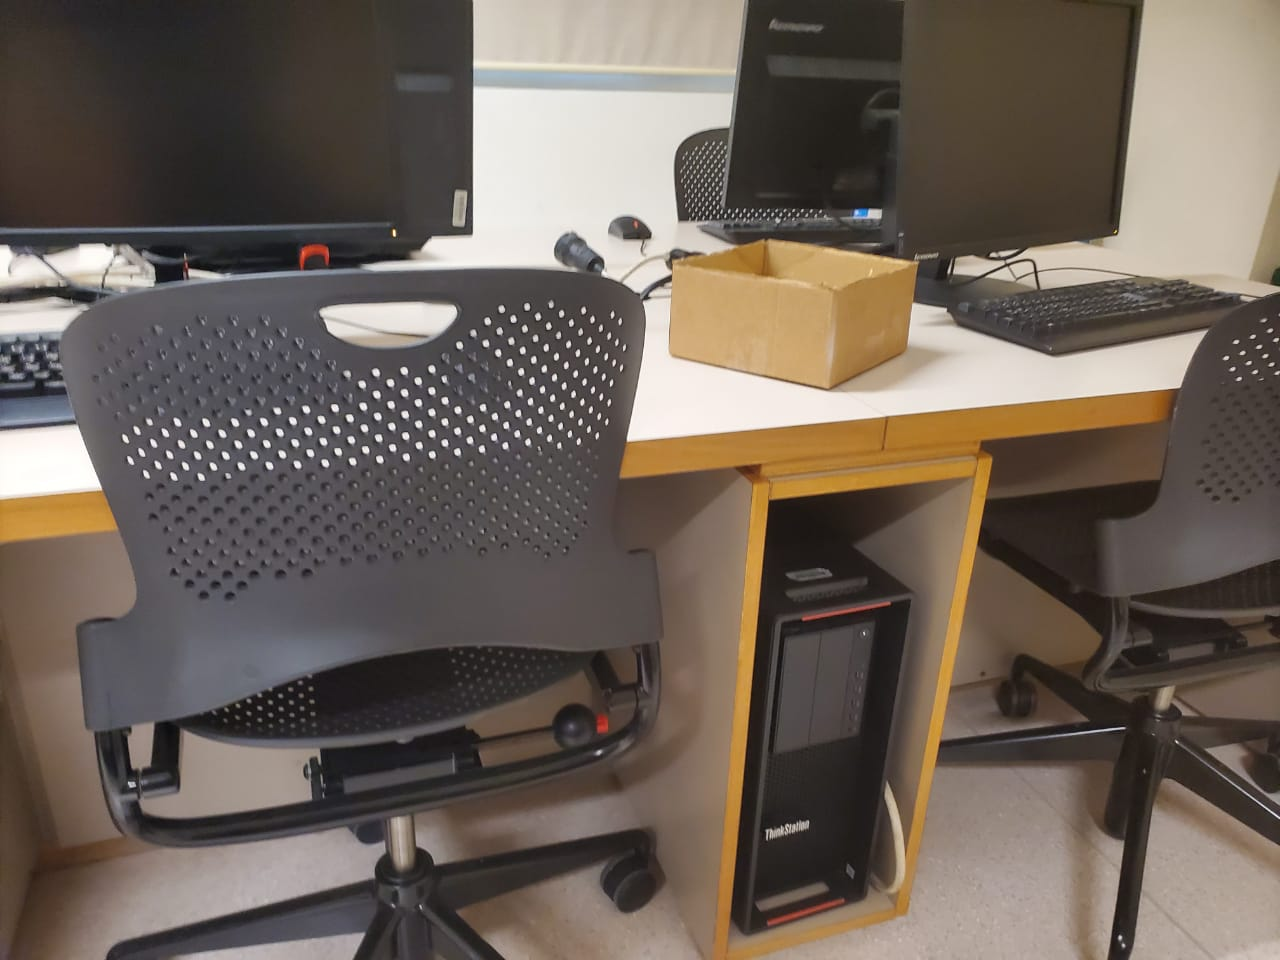CBox: (661, 231, 922, 387)
